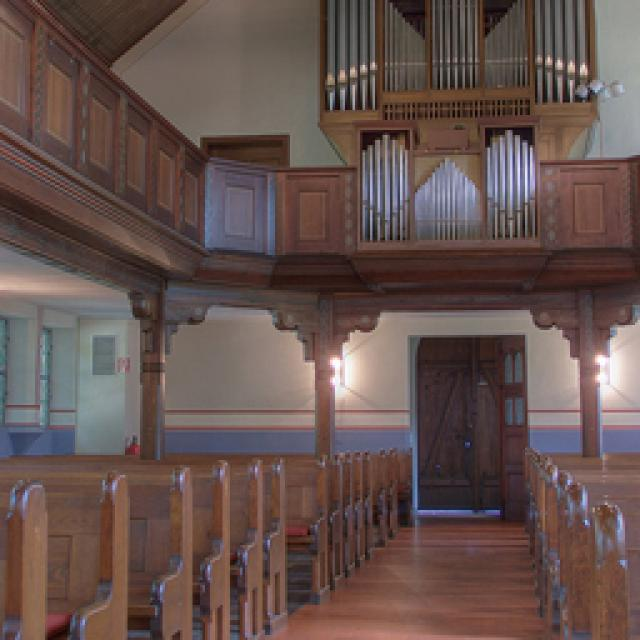benches crop: (2, 445, 405, 635), (522, 448, 638, 638)
ceiling beam: (0, 242, 132, 318), (40, 0, 182, 60)
column occluded: (525, 295, 638, 452), (262, 305, 380, 455), (128, 292, 208, 458)
door bars: (405, 332, 525, 512)
floor -X: (240, 508, 555, 635)
organ: (315, 0, 598, 252)
wall clock: (0, 292, 638, 525), (108, 0, 345, 165), (570, 0, 637, 158)
